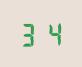four: (41, 19, 62, 46)
three: (19, 20, 40, 47)
